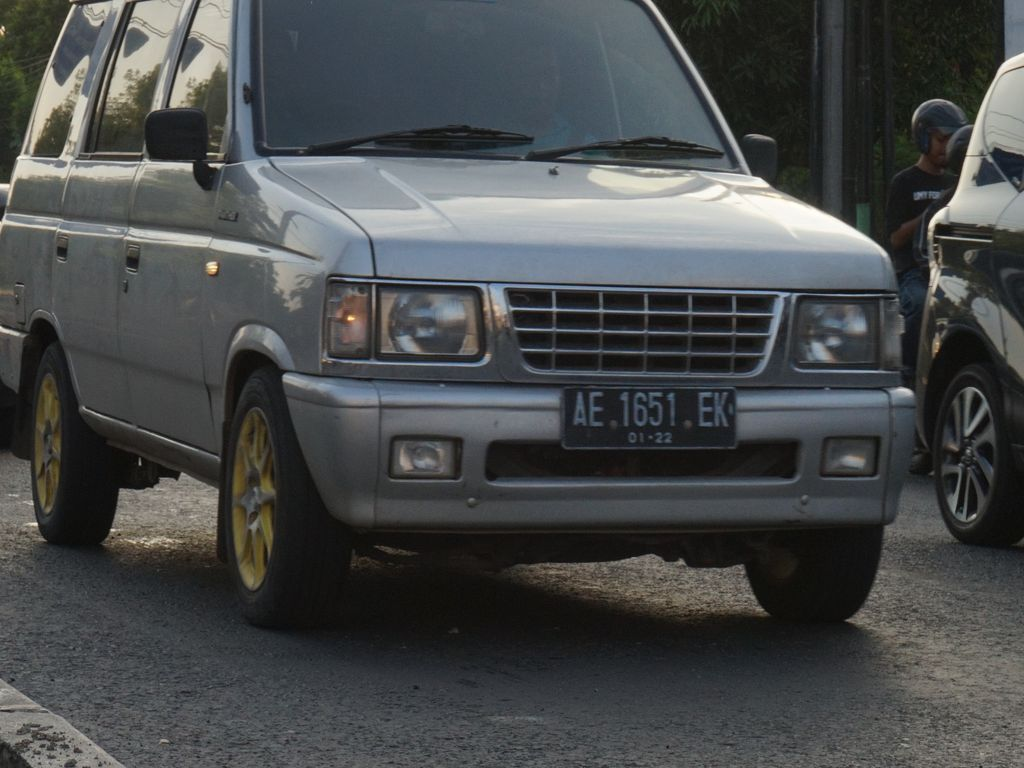plate: (565, 389, 734, 447)
